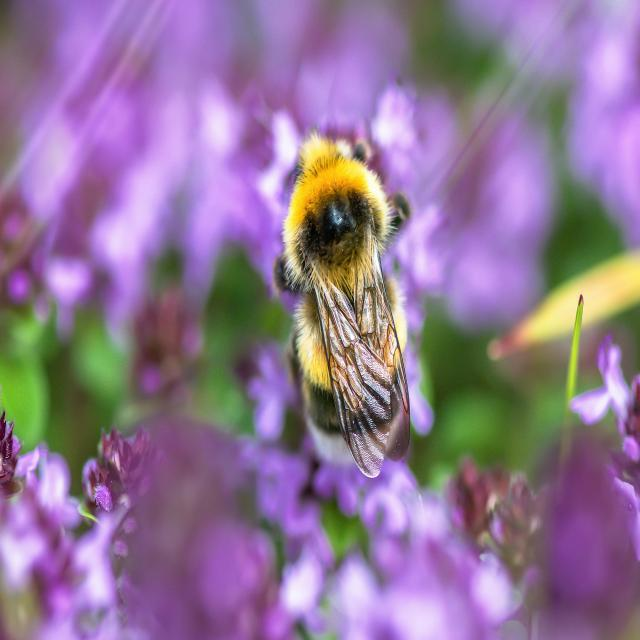bee: (274, 130, 430, 482)
